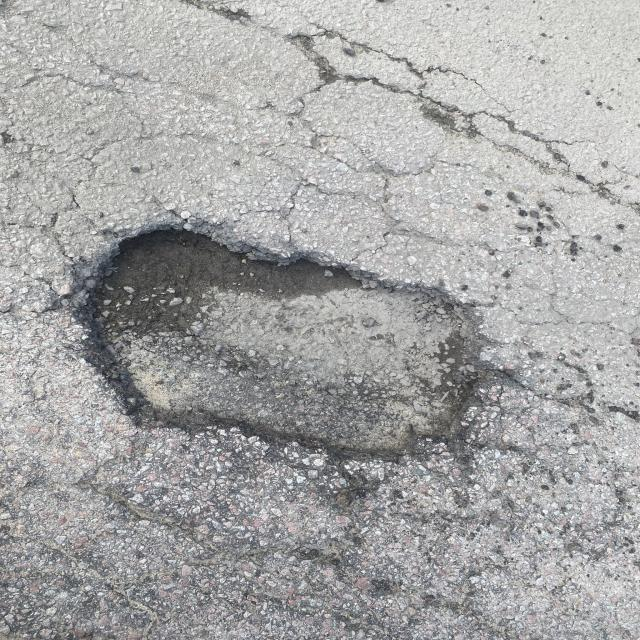Pothole: (36, 174, 580, 483)
